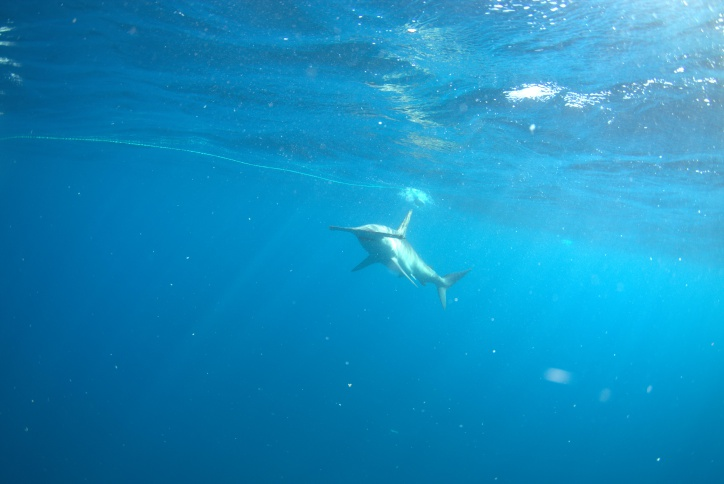Hammer: (305, 191, 494, 316), (503, 253, 656, 355)
